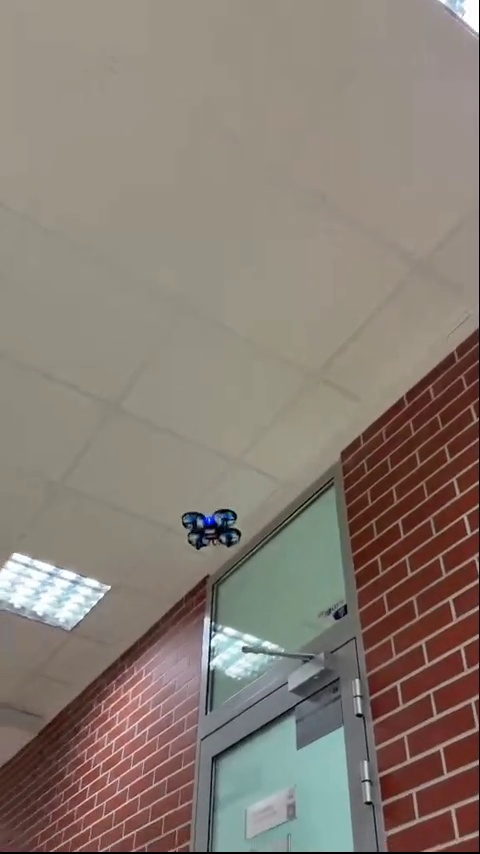drone: (182, 509, 236, 551)
